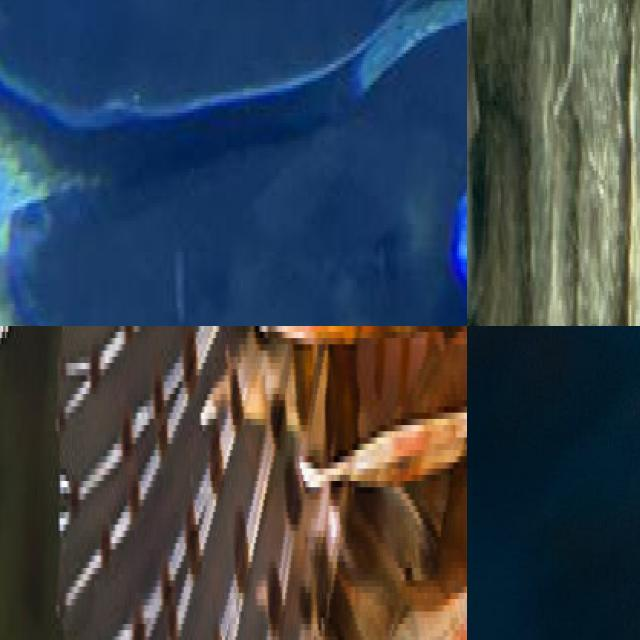fish: (0, 0, 467, 326), (467, 0, 519, 161)
